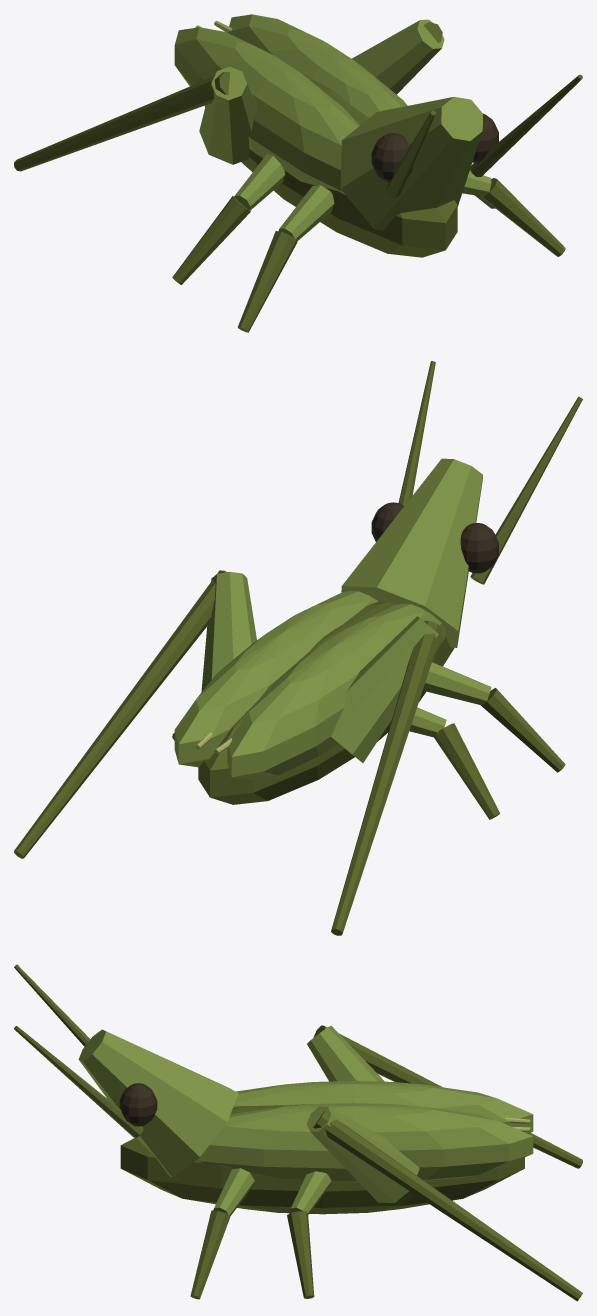
File: grasshopper.fbx
3 renders of one model, top to bottom at view 1: azimuth 30°, elevation 25°; view 2: azimuth 150°, elevation 25°; view 3: azimuth 270°, elevation 25°, orthographic. The views are drawn at different scales.
Parts seen in each view (by area): view 1: Body, HindLeft, ForeLeft, HindRight, MidLeft, ForeRight; view 2: Body, HindLeft, HindRight, ForeLeft, MidLeft; view 3: Body, HindRight, HindLeft, ForeRight, MidRight.
Boxes of the visible parts, x1,y1,x2,y2 form: Body: [174, 14, 582, 257]; HindLeft: [14, 66, 257, 171]; ForeLeft: [238, 185, 334, 332]; HindRight: [352, 19, 444, 94]; MidLeft: [172, 153, 285, 284]; ForeRight: [462, 171, 565, 256]; Body: [174, 361, 582, 804]; HindLeft: [331, 616, 444, 935]; HindRight: [14, 570, 256, 858]; ForeLeft: [422, 662, 565, 772]; MidLeft: [388, 707, 499, 819]; Body: [14, 964, 533, 1214]; HindRight: [307, 1106, 582, 1301]; HindLeft: [307, 1025, 582, 1168]; ForeRight: [190, 1168, 254, 1299]; MidRight: [287, 1171, 331, 1298].
Size of the model in its own units: 42.37 by 34.4 by 74.07.
